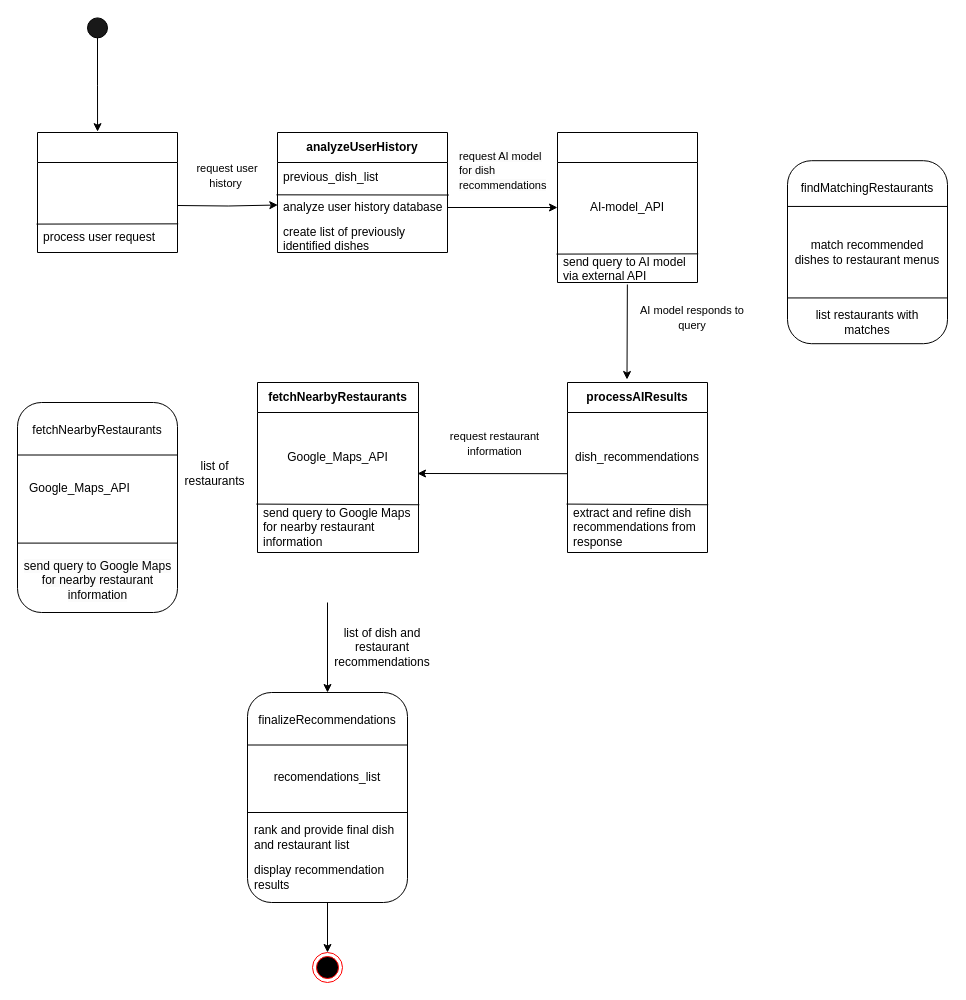
Image size: 966x1000. Some labels were removed from this diagram. The box of each missing label's shape, as (x1, y1, x2, y2) in pixels:
askRecommendation: (36, 132, 178, 252)
generateAIQuery: (556, 132, 698, 282)
